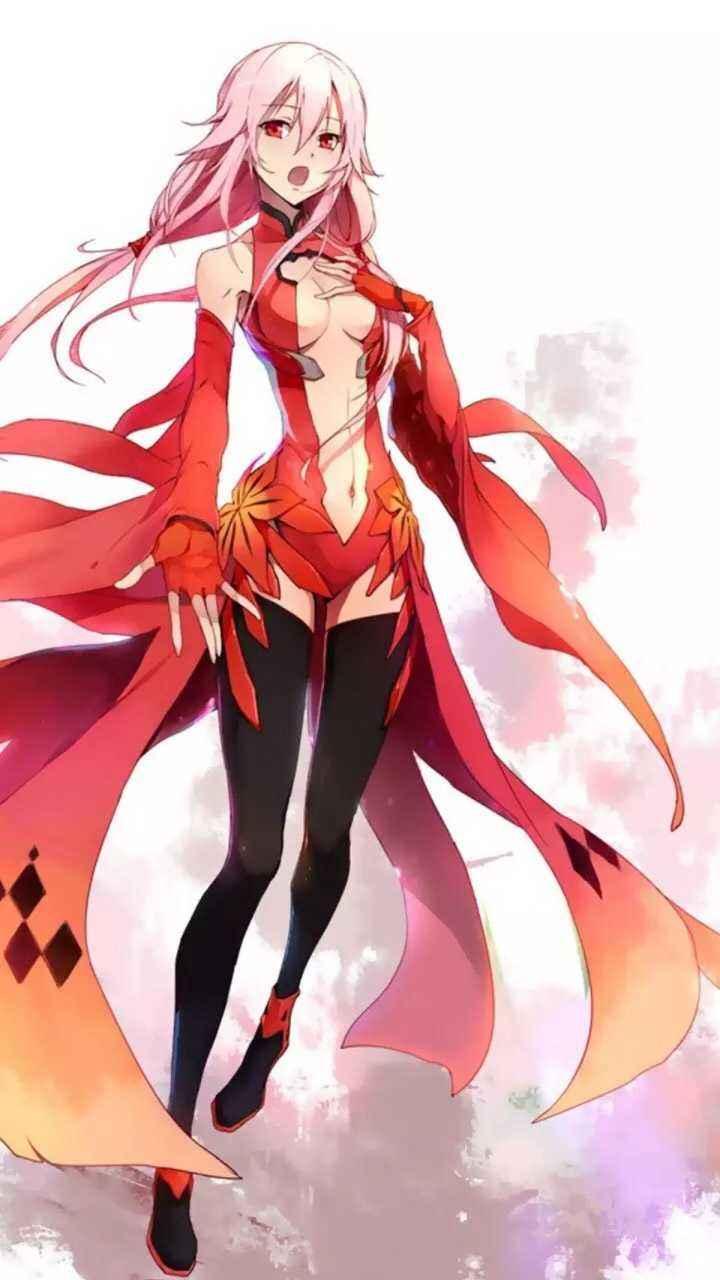person: (100, 45, 571, 676)
